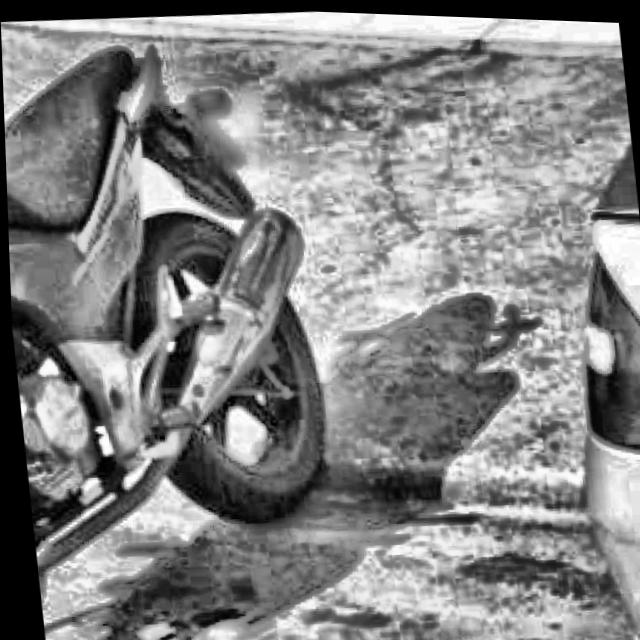motorcycle: (1, 20, 346, 598)
